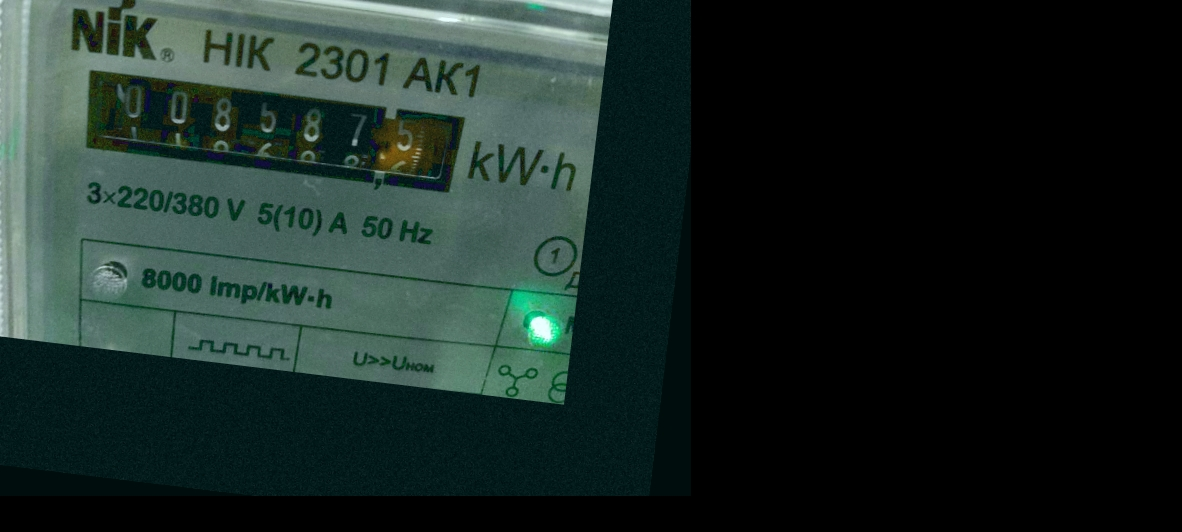0: (163, 84, 192, 127)
1: (117, 79, 146, 122)
5: (390, 113, 419, 155), (254, 96, 281, 137)
7: (341, 108, 369, 151)
8: (206, 91, 236, 135), (298, 102, 324, 146)
screen: (56, 47, 486, 216)
